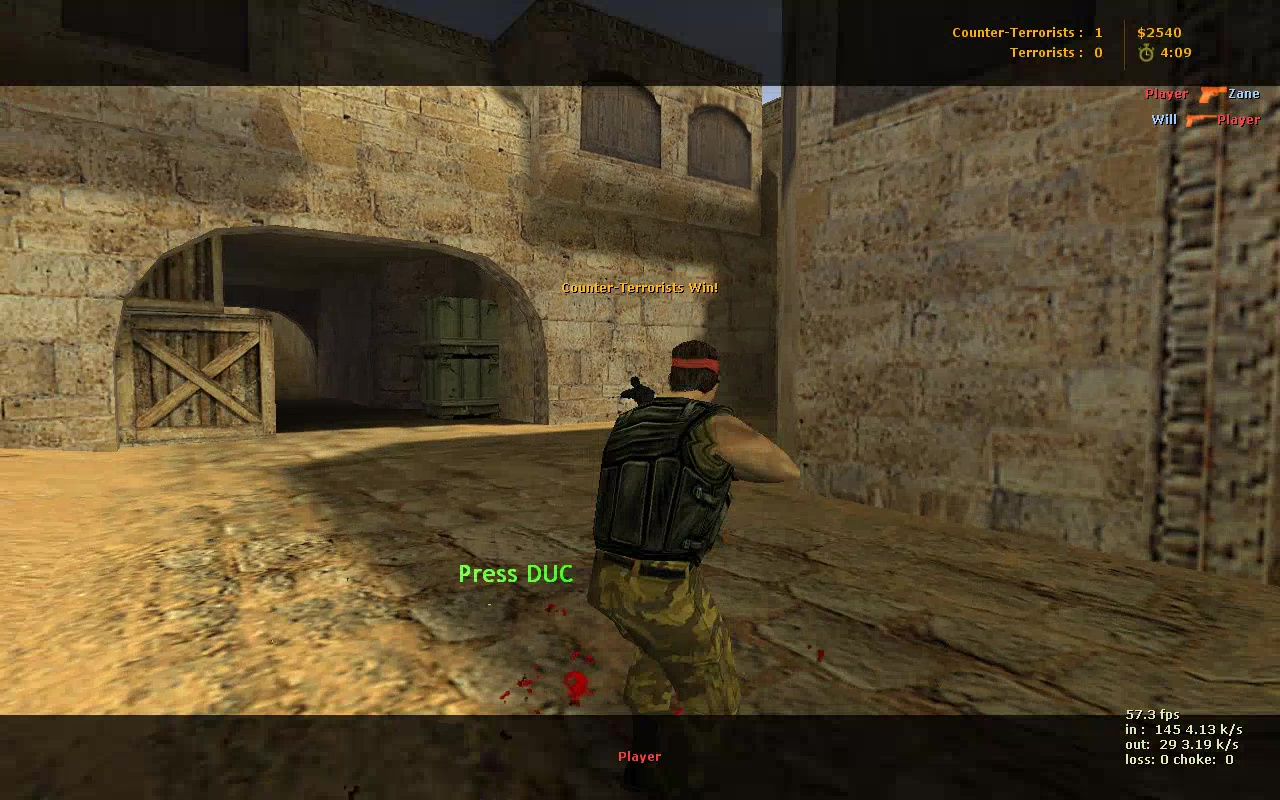terr1: (574, 340, 803, 713)
